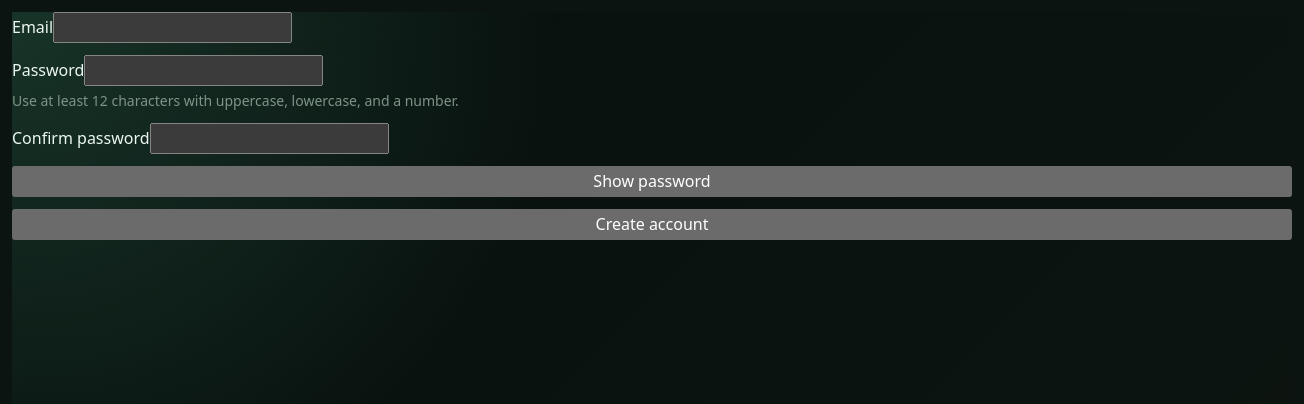
auth forms › creates an account with matching passwords and shows a confirmation prompt
Type "owner@example.com" into the field labelled "Email".
click(173, 27); type("owner@example.com")  # box [53,12,292,43]
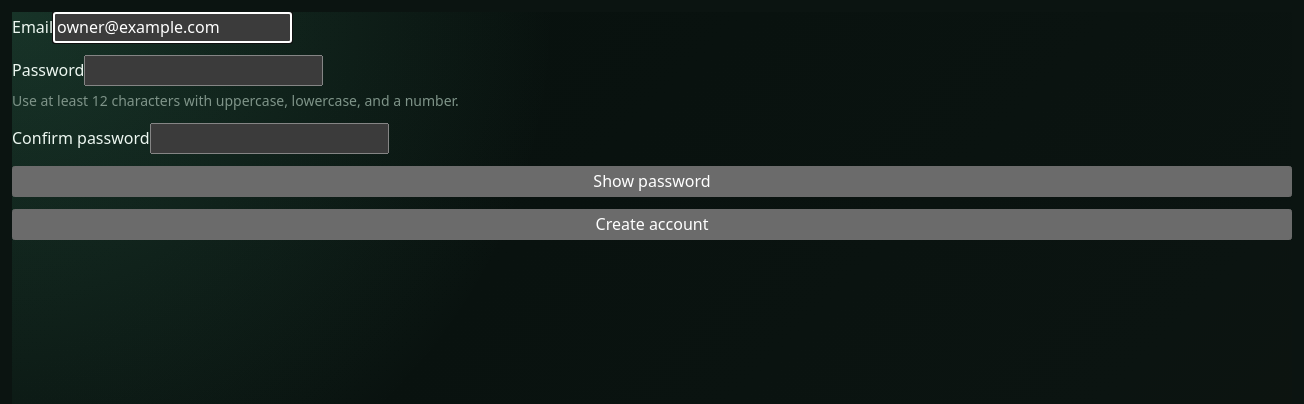
Type "Longpassword1" into the password field labelled "Password".
click(204, 70); type("Longpassword1")  # box [84,55,323,86]
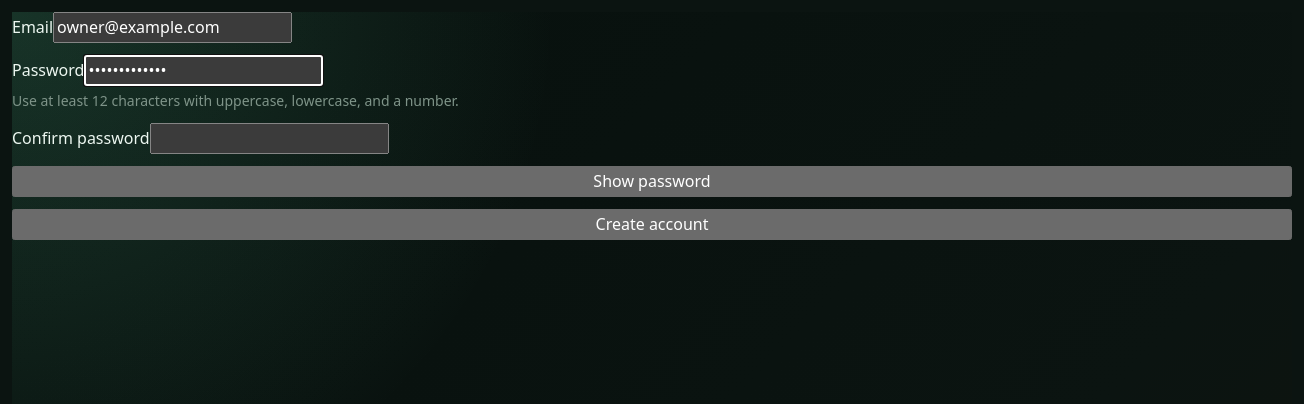
Type "Longpassword1" into the password field labelled "Confirm password".
click(269, 139); type("Longpassword1")  # box [150,123,389,154]
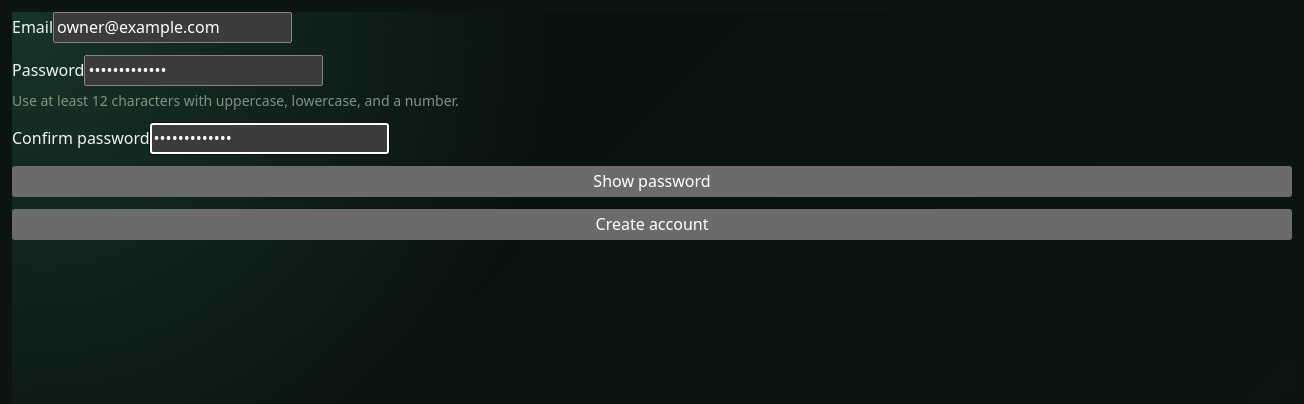
Click the button "Create account".
click(652, 224)  # box [12,209,1292,240]
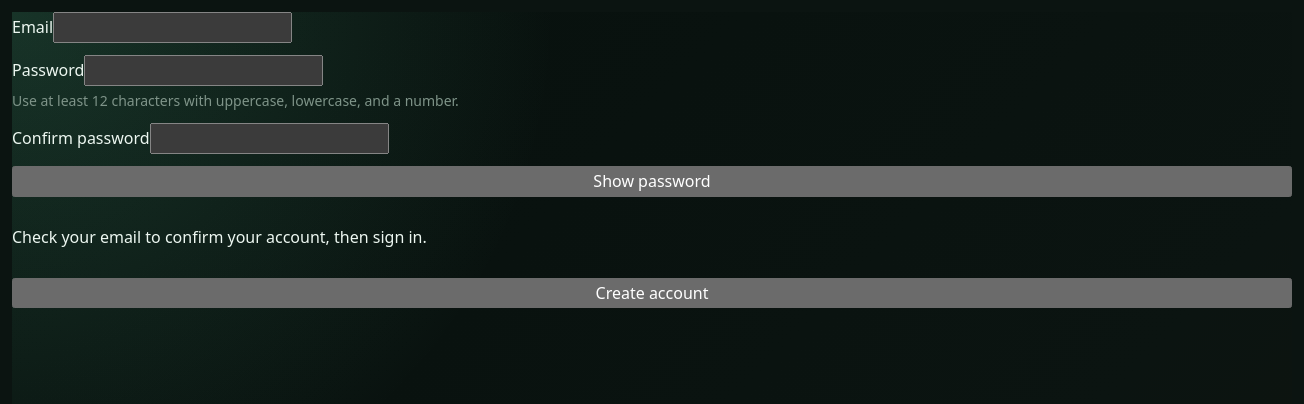
Expected: the text "Check your email to confirm your account, then sign in." is shown, [12,226,427,248]
